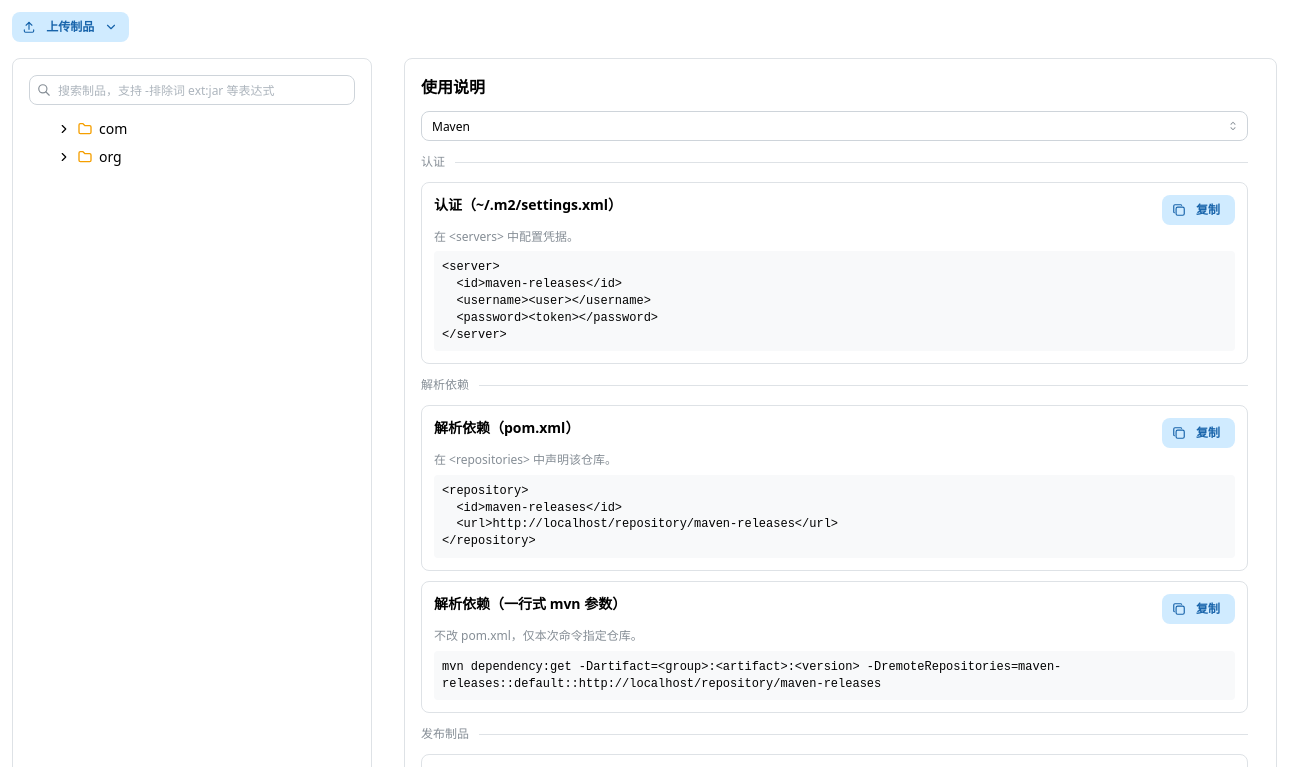
Scenario: 文件详情 › 管理员选中文件后不显示删除按钮
This screenshot has width=1292, height=767.
Click the list item "com".
click(64, 129)  # box [29,115,343,143]
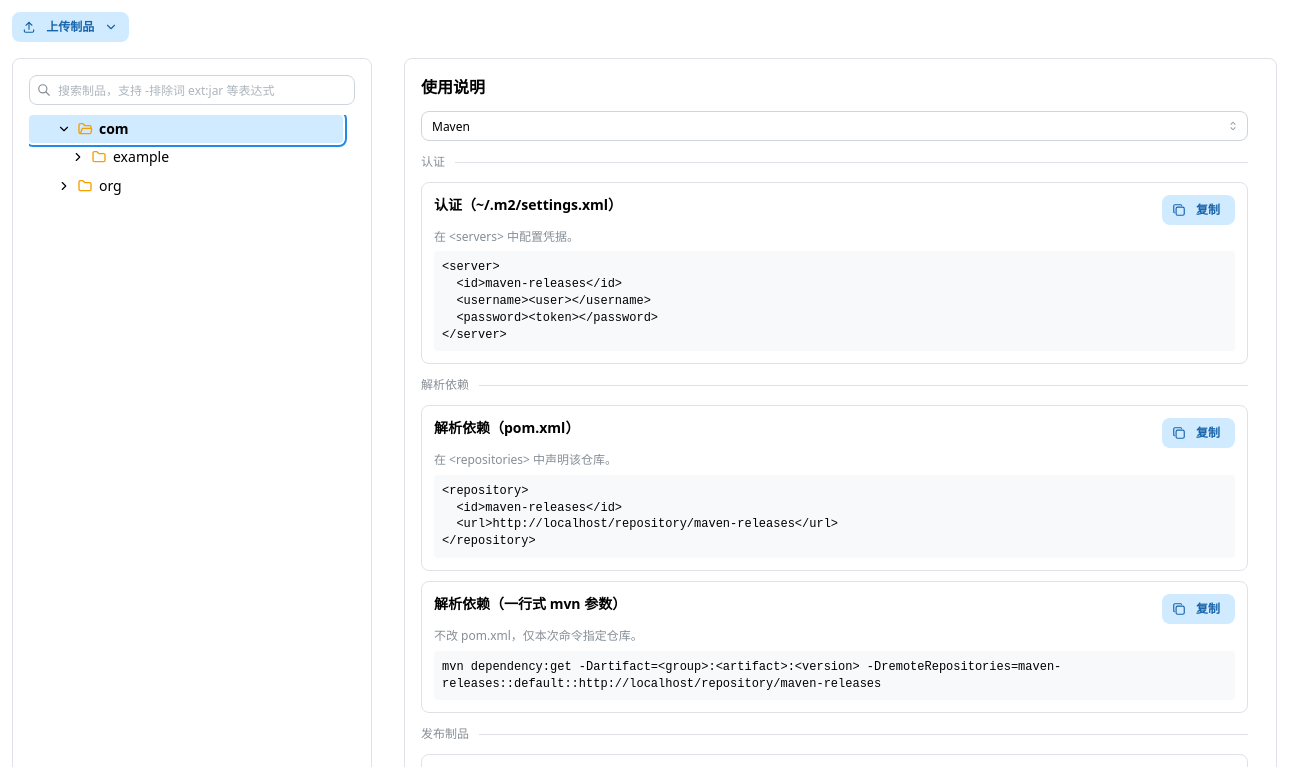
Click the list item "example".
click(141, 157)  # box [29,143,343,172]
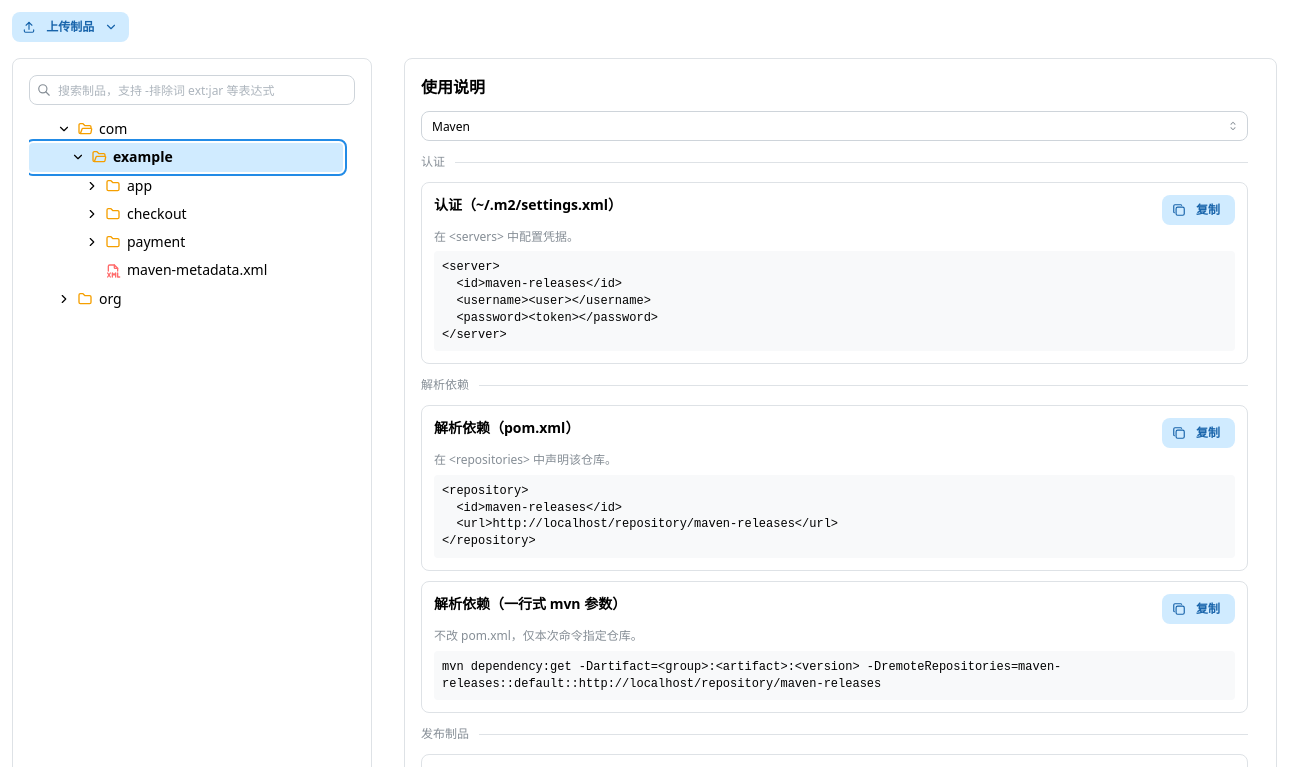
Click the list item "app".
click(92, 186)  # box [29,172,343,200]
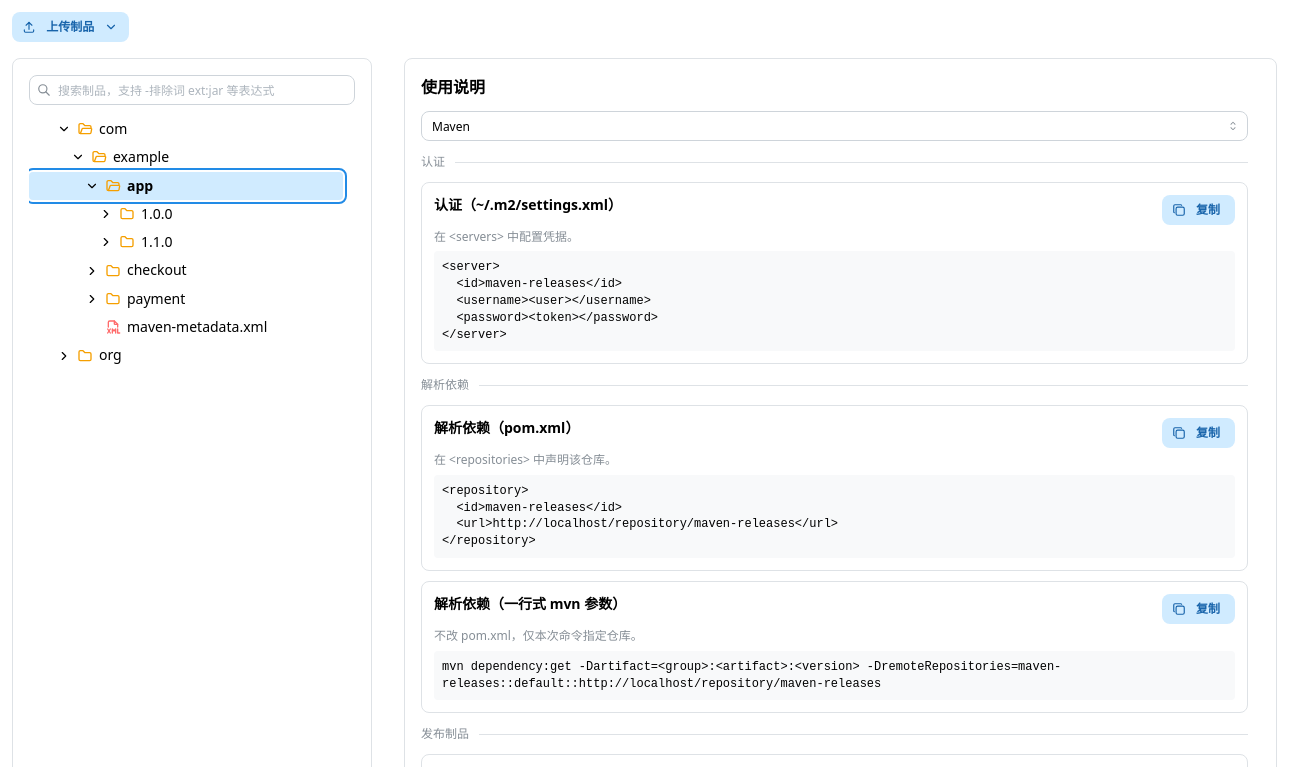
Click the list item "1.0.0".
click(157, 213)  # box [29,200,343,228]
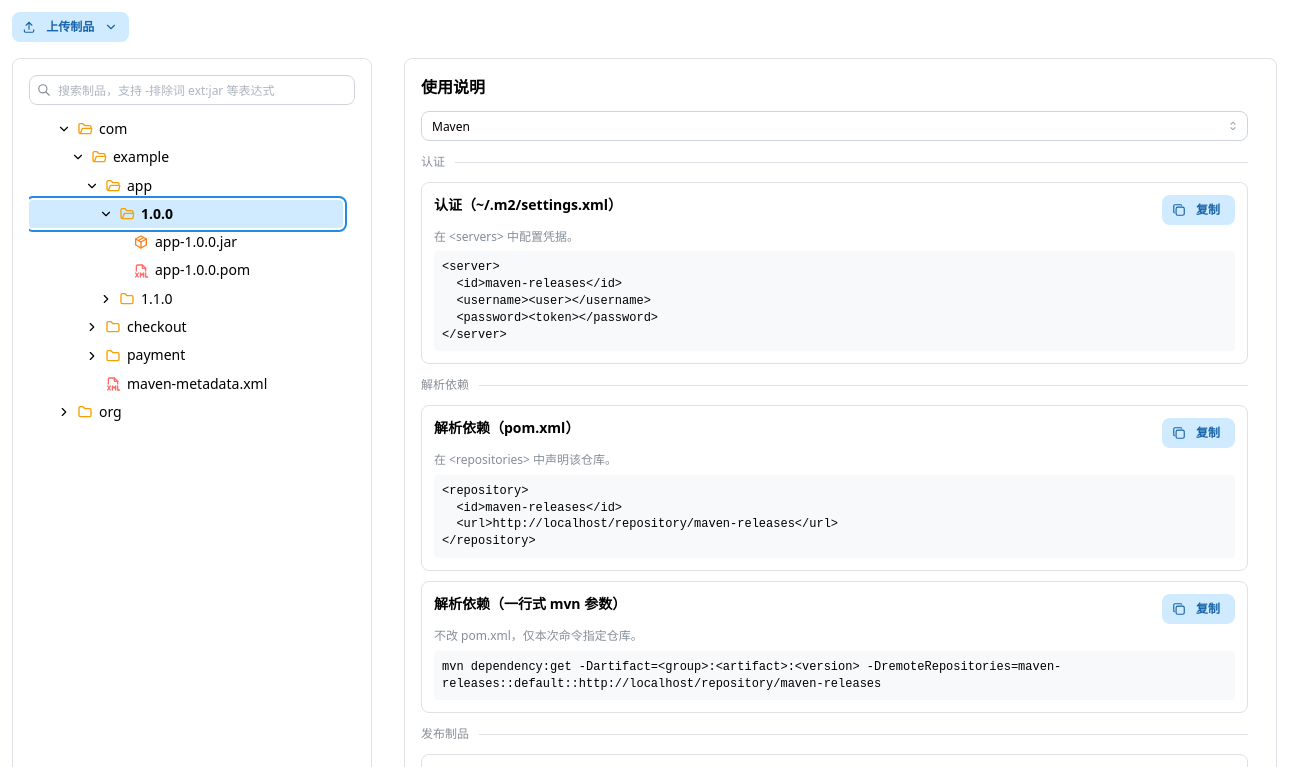
Click the list item "app-1.0.0.jar".
click(186, 242)  # box [29,228,343,256]
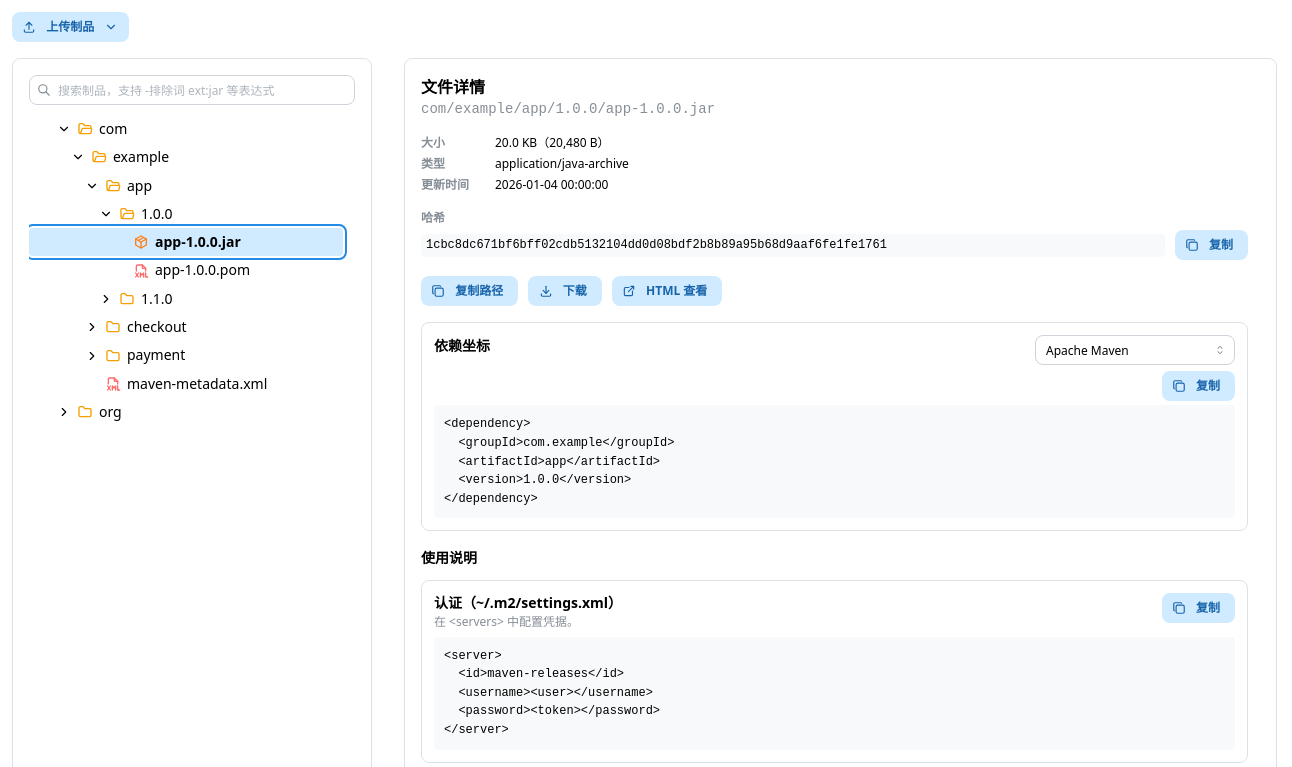
Check: the text "com/example/app/1.0.0/app-1.0.0.jar" is shown, box [421,101,715,117]
